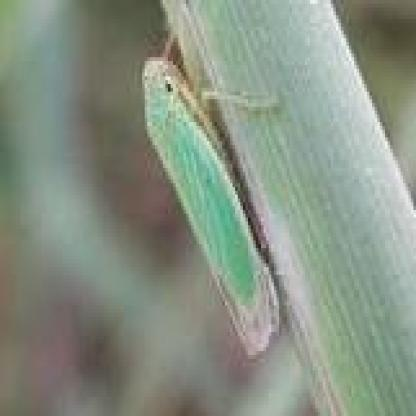Green-Leafhopper: (138, 25, 310, 362)
